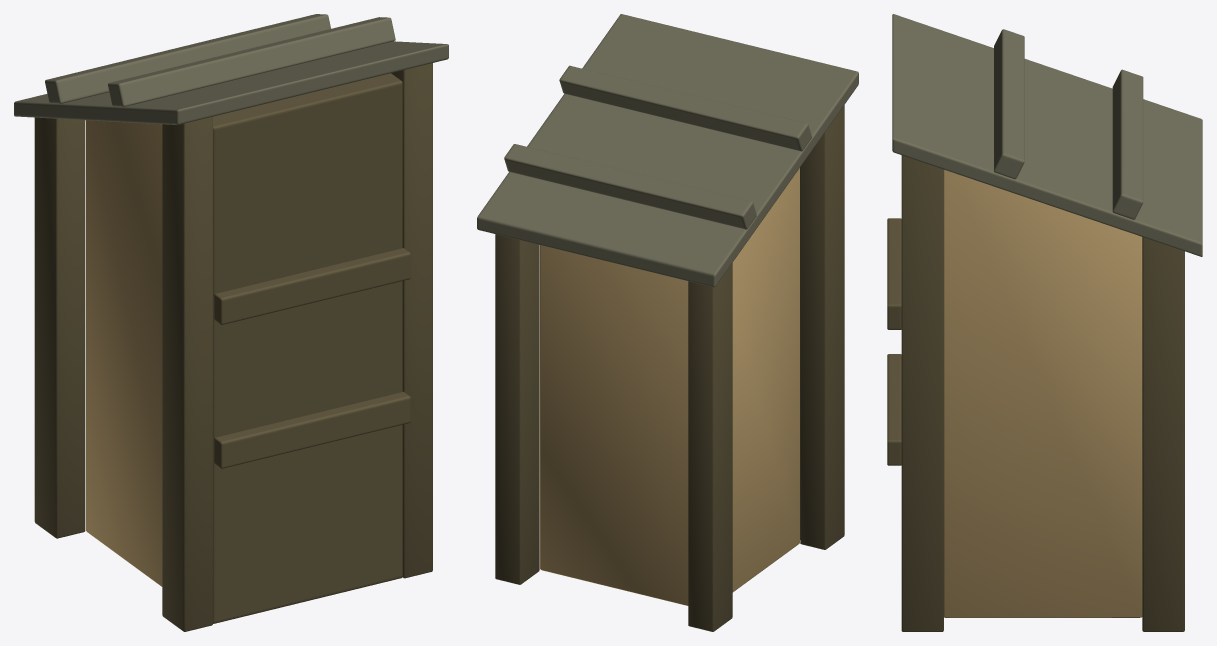
The model's file is Shed_v01.glb.
The picture shows the model from 3 angles, left to right: view 1: azimuth 30°, elevation 25°; view 2: azimuth 150°, elevation 25°; view 3: azimuth 270°, elevation 25°; orthographic projection. The views are drawn at different scales.
Parts seen in each view (by area): view 1: SM_Shed; view 2: SM_Shed; view 3: SM_Shed.
Boxes of the visible parts, x1,y1,x2,y2 form: SM_Shed: [14, 14, 448, 631]; SM_Shed: [477, 14, 858, 631]; SM_Shed: [887, 14, 1202, 631].
Bounding box in the file's own units: 1.33 × 2.46 × 1.41.
